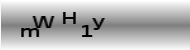1: (80, 24, 93, 38)
H: (60, 11, 77, 25)
W: (31, 15, 55, 28)
m: (20, 27, 40, 38)
y: (91, 17, 105, 30)
